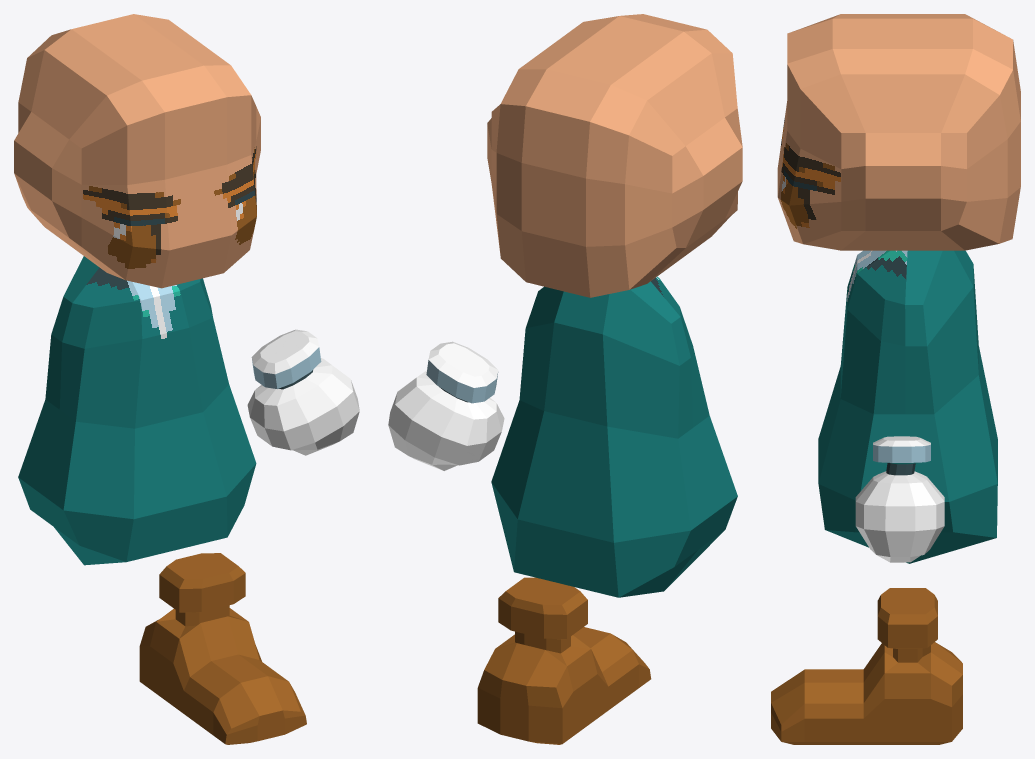
The model's file is characer.gltf.
3 views of the same model, side by side, from view 1: azimuth 30°, elevation 25°; view 2: azimuth 150°, elevation 25°; view 3: azimuth 270°, elevation 25° (orthographic). The views are drawn at different scales.
Parts seen in each view (by area): view 1: Head, B, Cube, Hand; view 2: Head, B, Cube, Hand; view 3: Head, B, Cube, Hand.
Boxes of the visible parts, <box> form: Head: <box>14,14,260,288</box>; B: <box>18,256,256,565</box>; Cube: <box>139,553,306,744</box>; Hand: <box>247,329,359,455</box>; Head: <box>487,14,742,297</box>; B: <box>491,276,737,597</box>; Cube: <box>477,577,651,744</box>; Hand: <box>388,341,504,470</box>; Head: <box>777,14,1020,250</box>; B: <box>818,250,997,563</box>; Cube: <box>771,588,962,744</box>; Hand: <box>855,436,944,562</box>.
Bounding box in the file's own units: 1.24 × 2.51 × 0.8552.
Materials: 1 (1 with a texture image).
